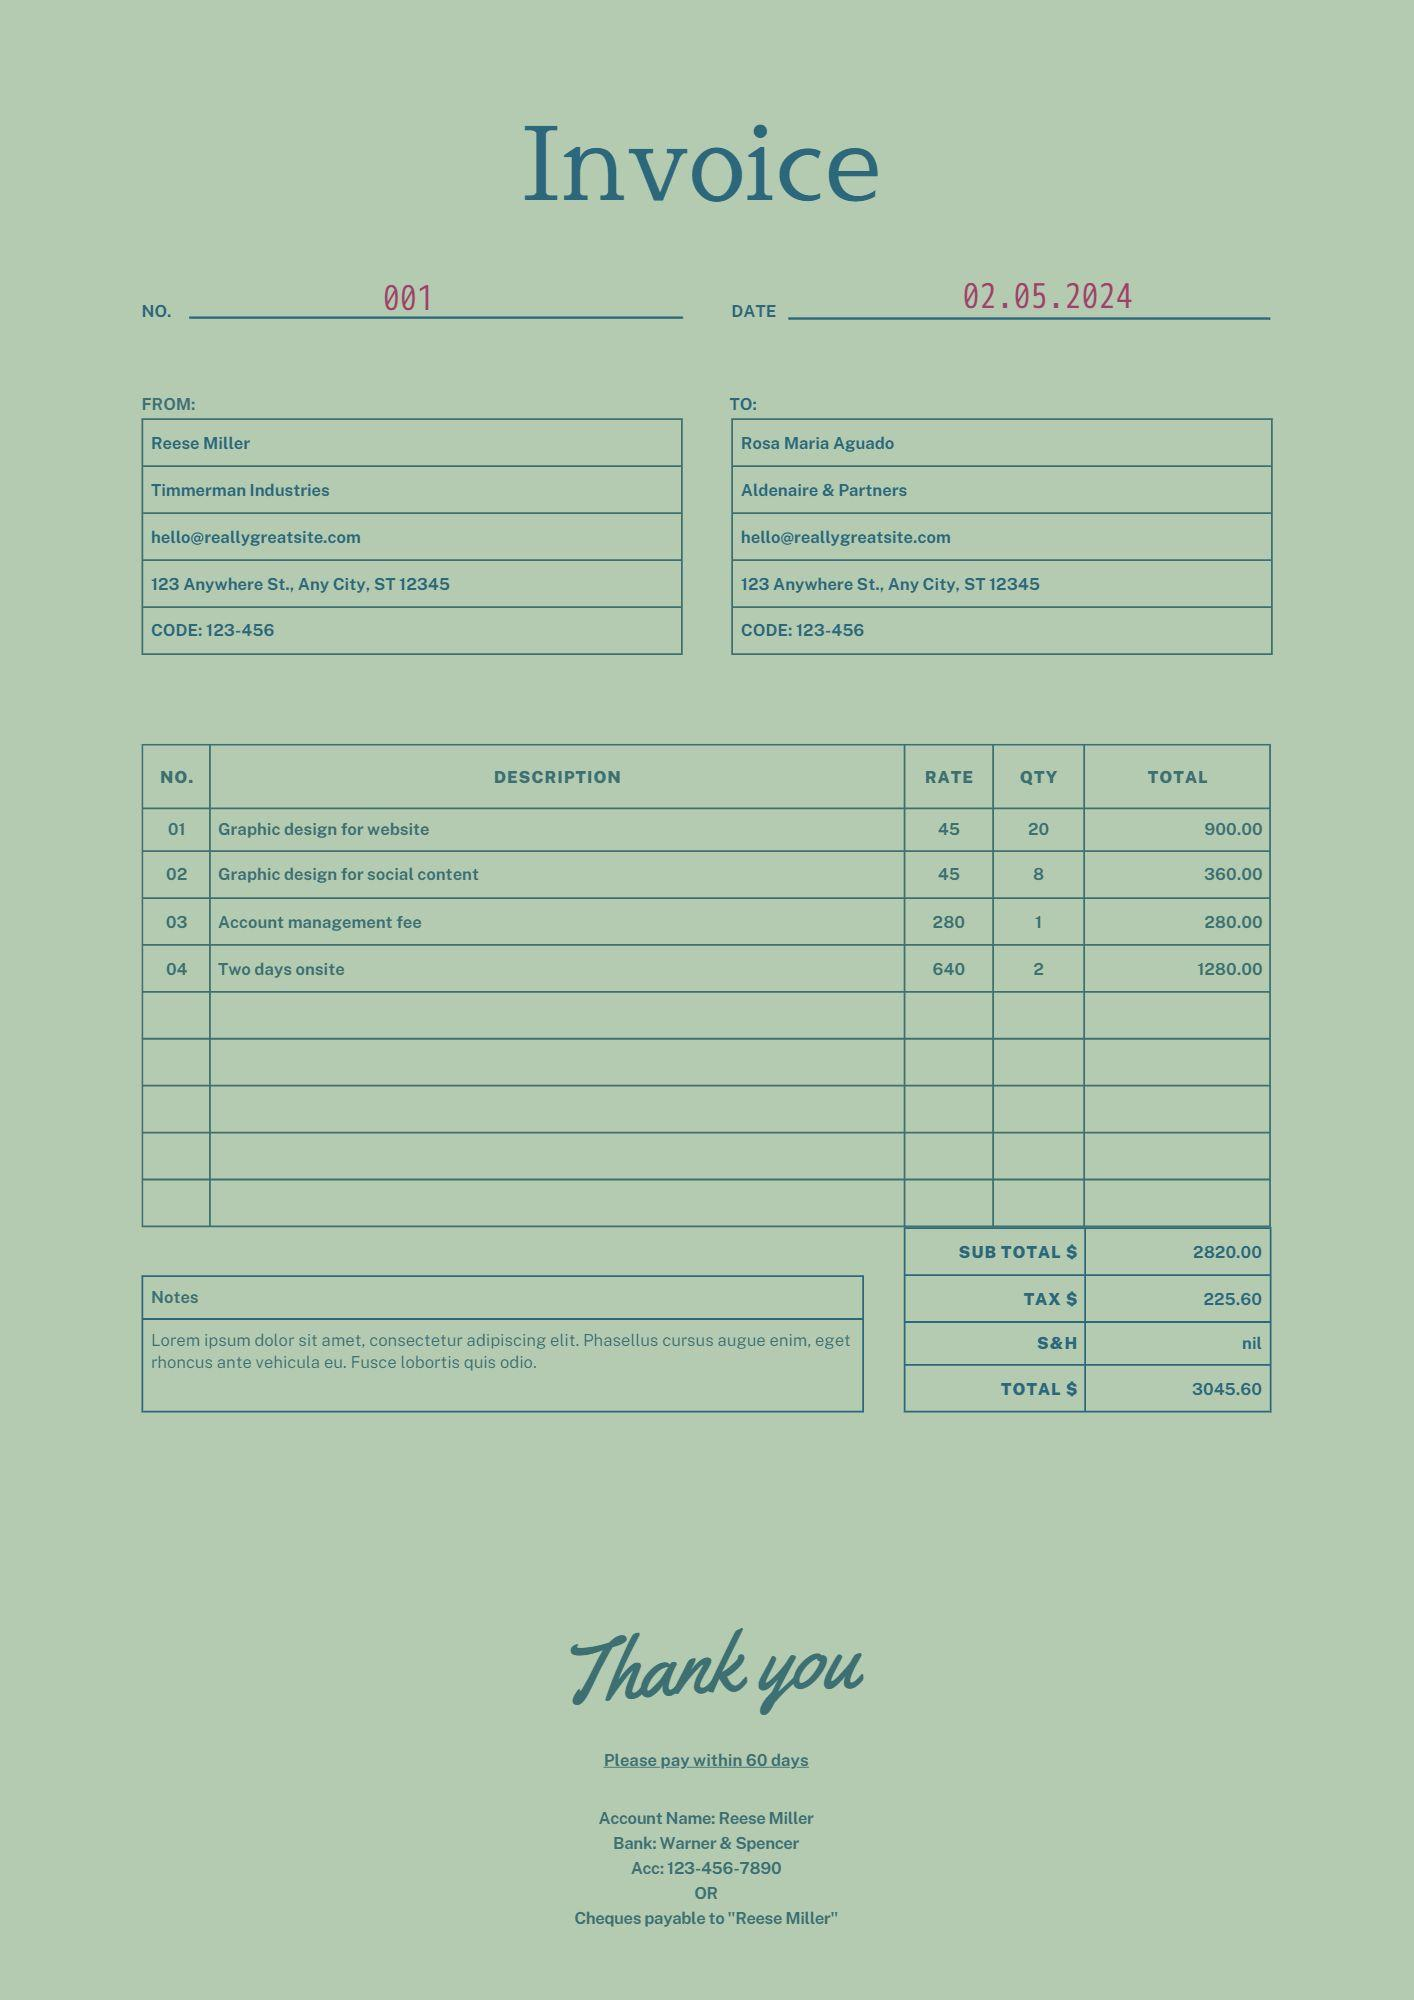ROI: (132, 738, 1278, 1238)
